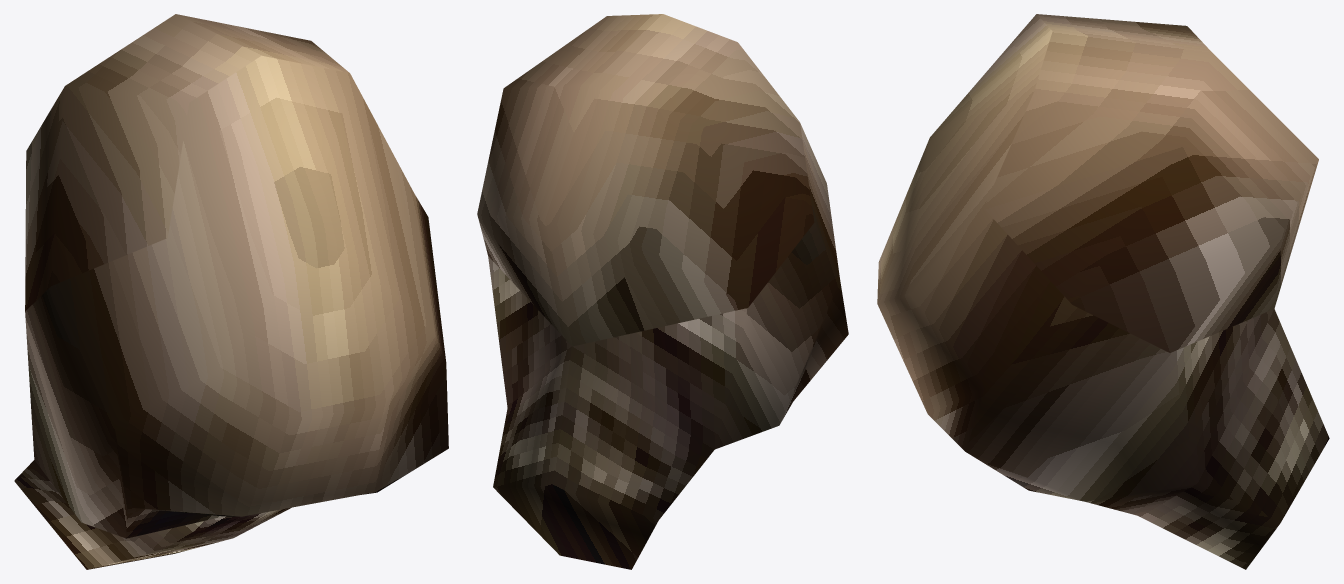
File: Bone01.glb
The picture shows the model from 3 angles, left to right: view 1: azimuth 30°, elevation 25°; view 2: azimuth 150°, elevation 25°; view 3: azimuth 270°, elevation 25°; orthographic projection. The views are drawn at different scales.
Visible parts, largest first — view 1: model_Bone01; view 2: model_Bone01; view 3: model_Bone01.
Boxes of the visible parts, x1,y1,x2,y2 form: model_Bone01: (14,14,448,569); model_Bone01: (477,14,848,569); model_Bone01: (877,14,1329,569).
Bounding box in the file's own units: 0.2663 × 0.3947 × 0.3051.
Materials: 1 (1 with a texture image).
